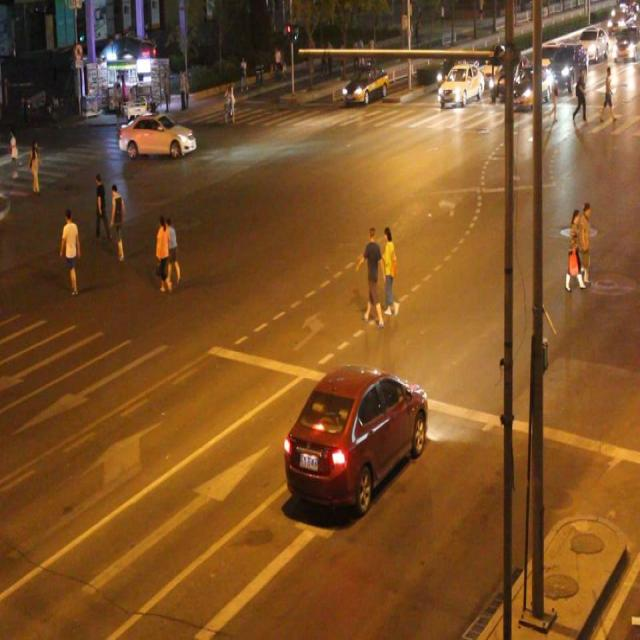car: (286, 360, 427, 511), (120, 114, 198, 160), (342, 63, 388, 106), (439, 61, 481, 106)
